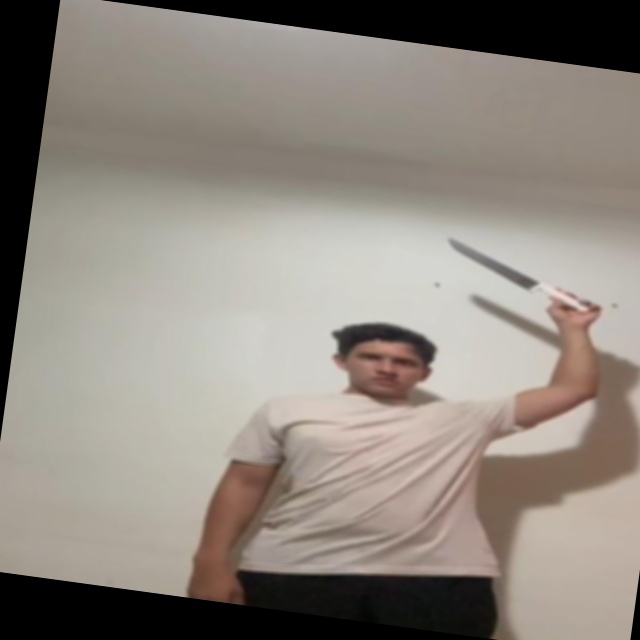Sharp-Object: (443, 236, 540, 289)
